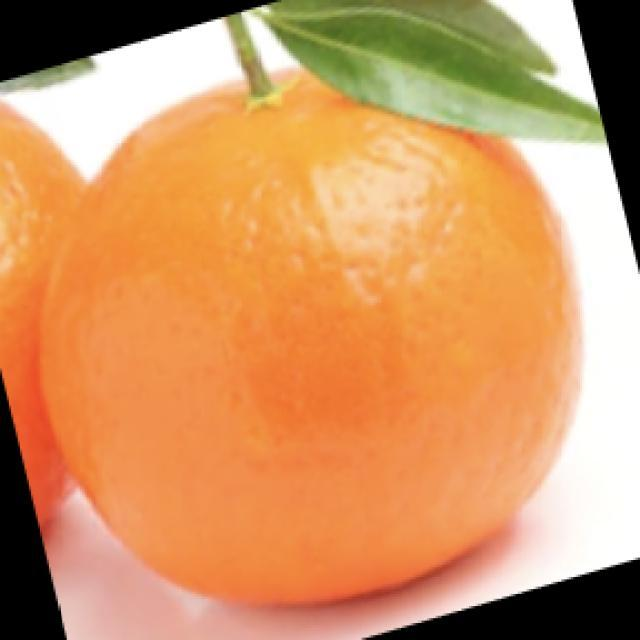matang: (39, 53, 590, 603)
